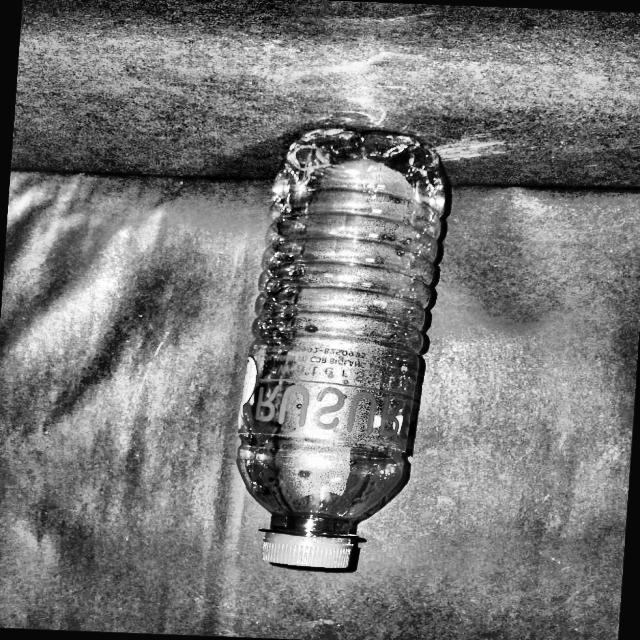Plastic-Bottle: (224, 123, 460, 579)
